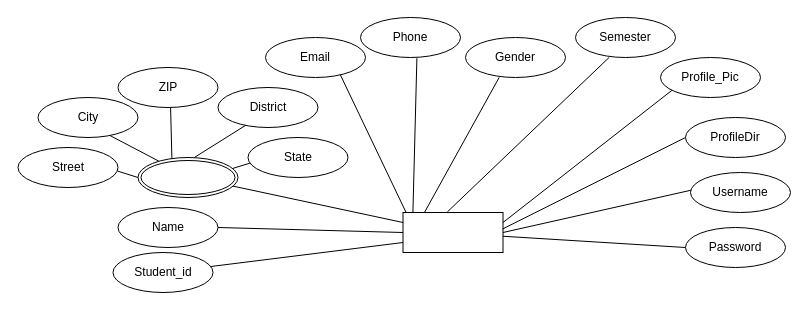
The diagram is 808 pixels wide and 310 high, and some of its shapes have lost their labels. Here are the shapes that lost their labels. From the top down, the centre of each, then its label:
At point (187, 177): "Address".
At point (452, 232): "STUDENT".
